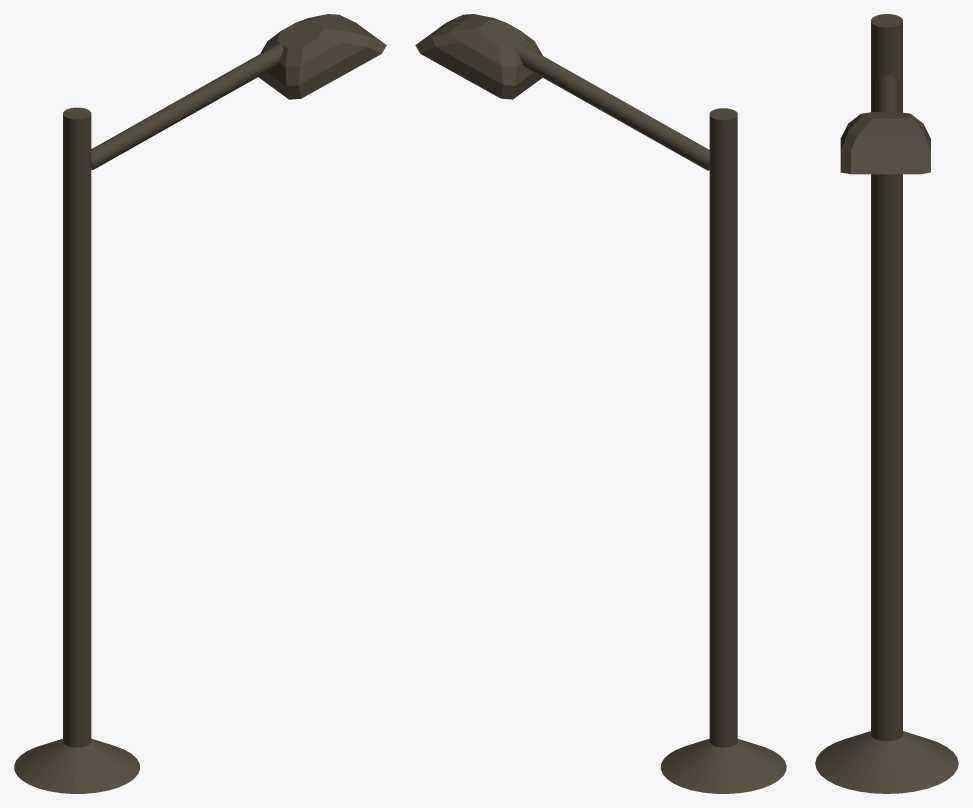
Rendered from light_post.fbx.
3 views of the same model, side by side, from view 1: azimuth 30°, elevation 25°; view 2: azimuth 150°, elevation 25°; view 3: azimuth 270°, elevation 25° (orthographic). The views are drawn at different scales.
Parts seen in each view (by area): view 1: Cylinder, Cube, Cylinder.001; view 2: Cylinder, Cube, Cylinder.001; view 3: Cylinder, Cube, Cylinder.001.
Part boxes in pixels (<box>): Cylinder: <box>14,107,139,793</box>; Cube: <box>258,14,386,99</box>; Cylinder.001: <box>91,40,288,169</box>; Cylinder: <box>660,108,786,793</box>; Cube: <box>415,14,542,99</box>; Cylinder.001: <box>512,40,709,170</box>; Cylinder: <box>815,14,958,793</box>; Cube: <box>840,112,930,174</box>; Cylinder.001: <box>876,75,897,112</box>.
Size of the model in its own units: 131 by 246 by 41.16.
